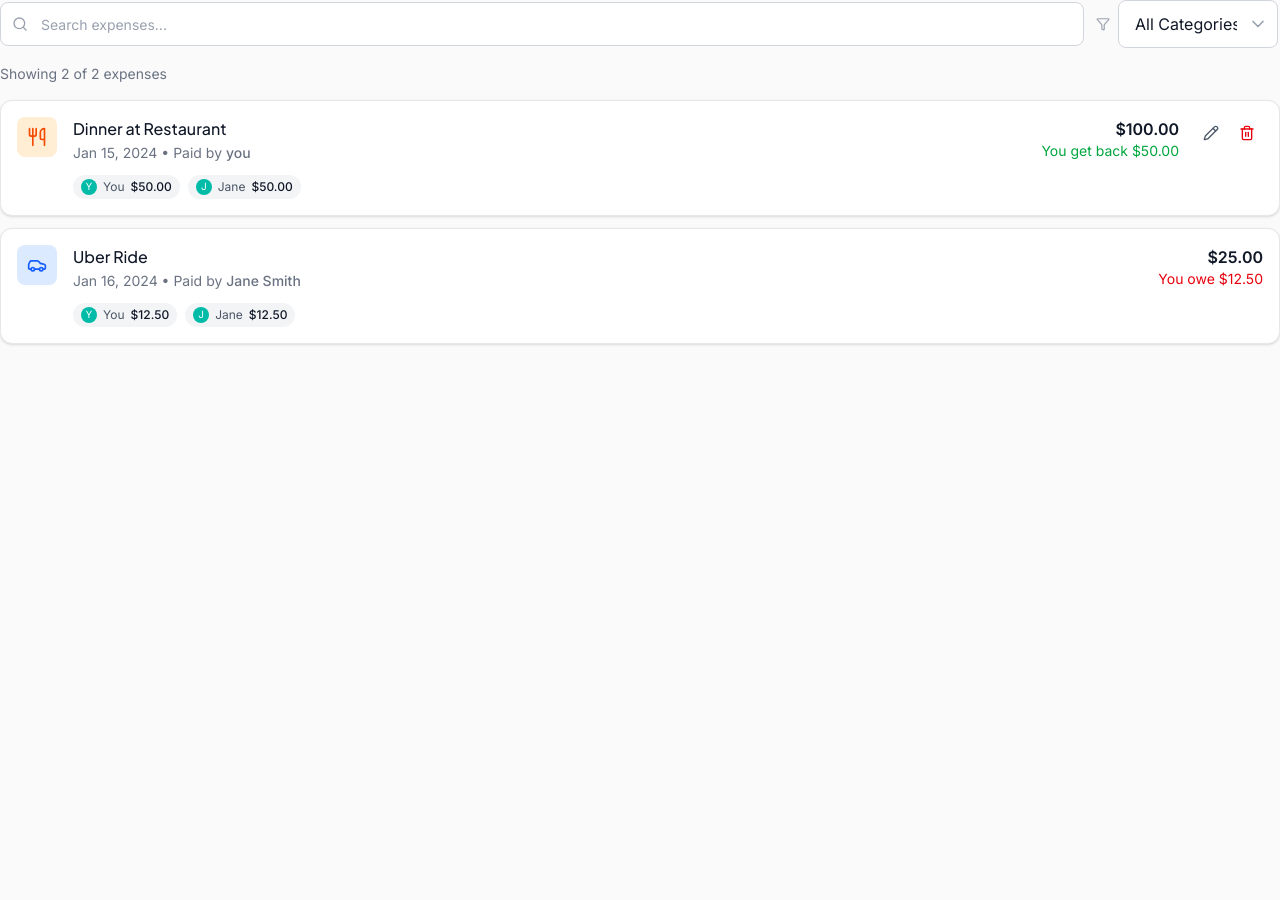
Test: ExpensesList › closes delete modal when cancelled
The image size is (1280, 900).
Click the button titled "Delete expense" at (1247, 133), box [1231,117,1263,149]
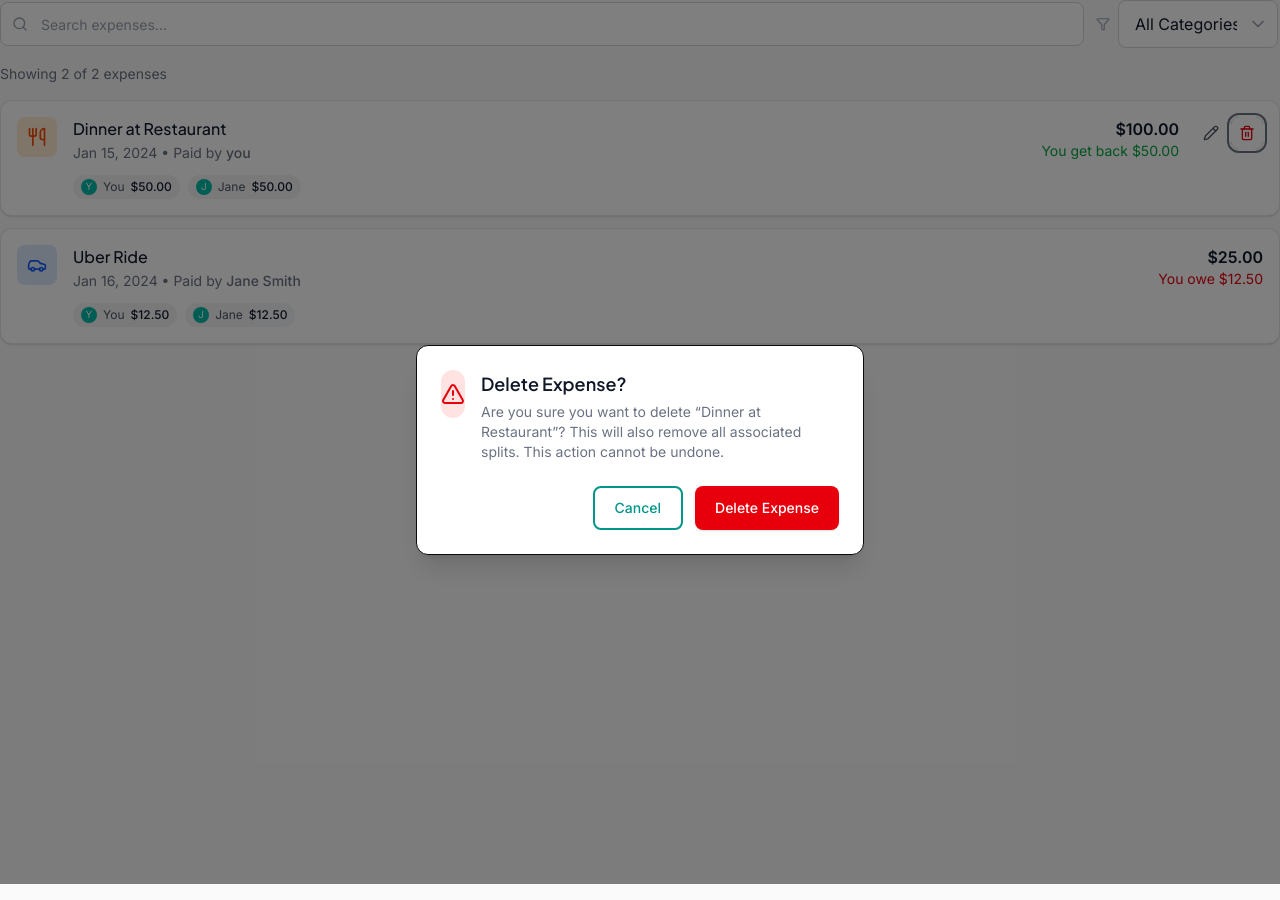
# Find the Cancel button in the modal (not the edit form cancel)
Click the button "Cancel" at (638, 508), box [592,486,683,530]
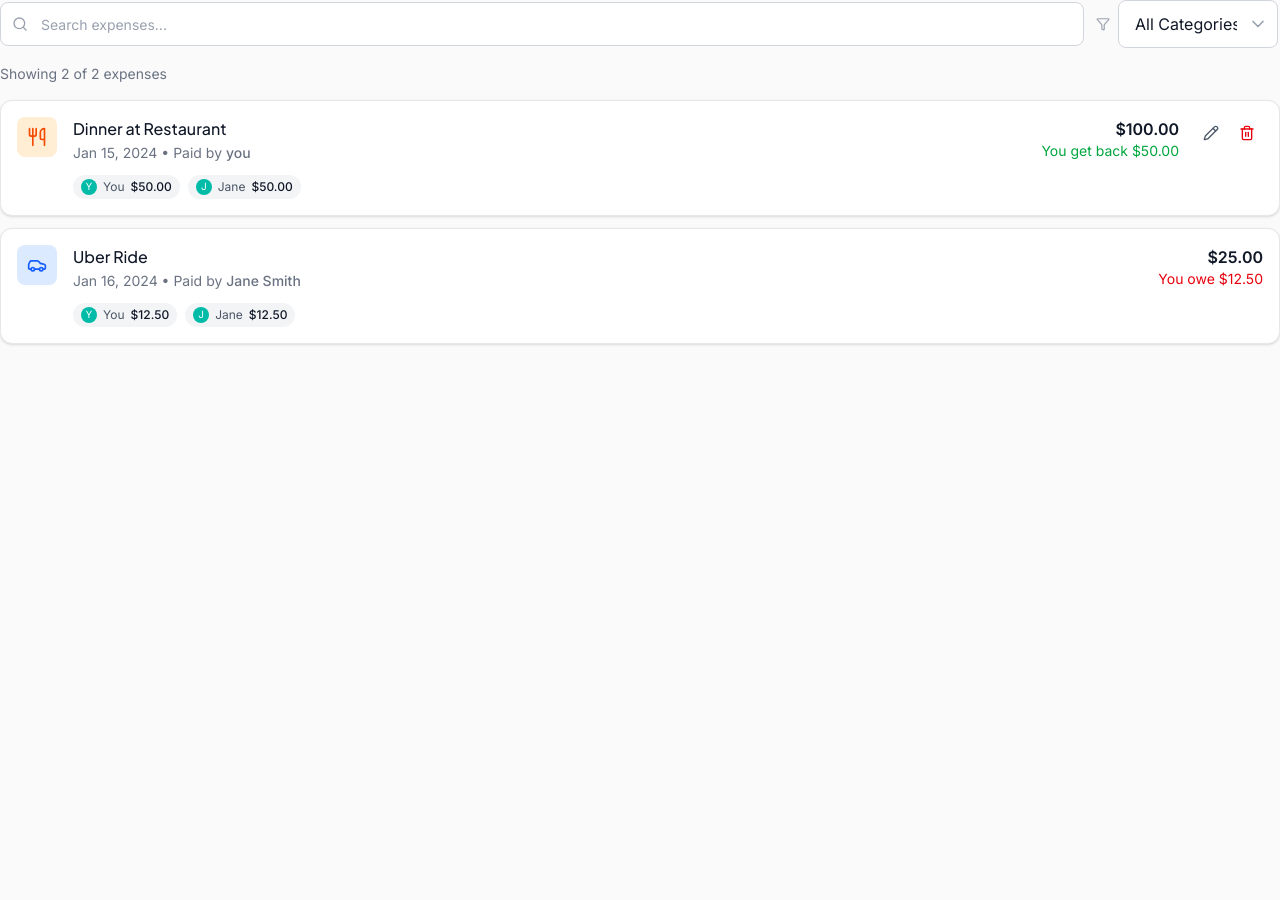
Now the heading "Delete Expense?" is gone
